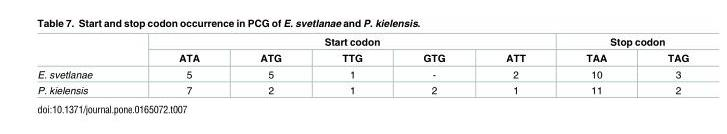table: (36, 36, 688, 95)
table column: (36, 36, 134, 95), (134, 36, 229, 95), (229, 36, 311, 95), (392, 36, 474, 95), (311, 36, 392, 95), (474, 36, 555, 95), (555, 36, 636, 95), (636, 36, 688, 95)
table column header: (36, 36, 688, 66)
table row: (36, 50, 688, 66), (36, 66, 688, 82), (36, 36, 688, 50), (36, 82, 688, 95)
table spanning cell: (134, 36, 555, 50), (555, 36, 688, 50)
